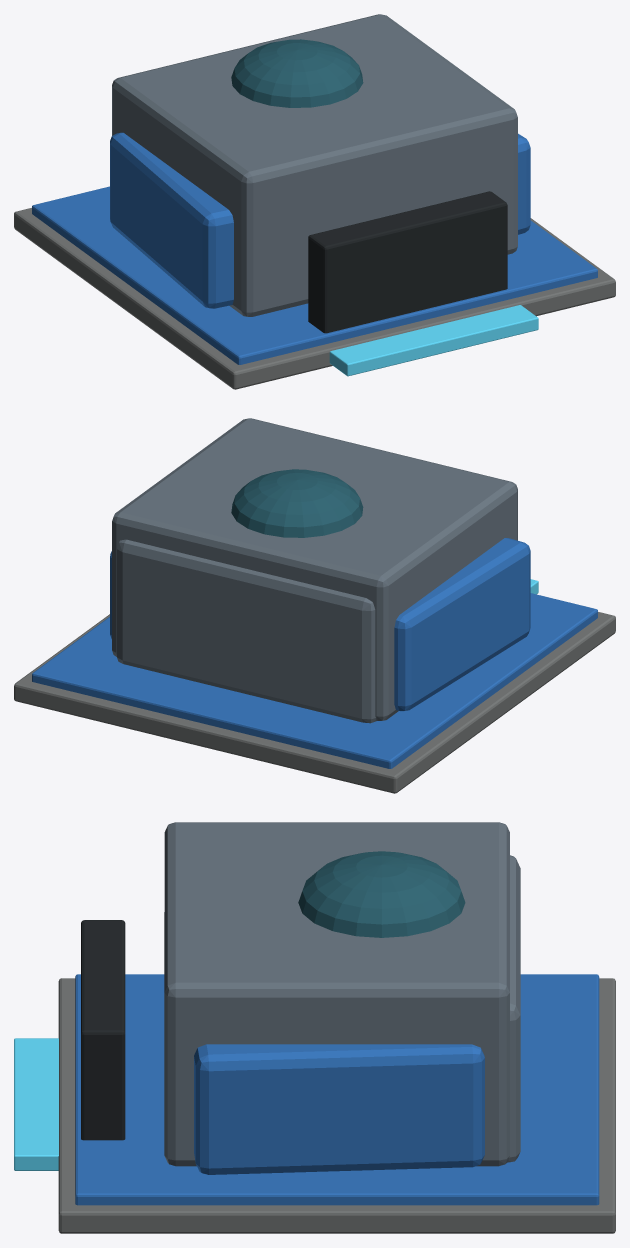
The model's file is SM_Alliance_AL_WarFactory.fbx.
3 renders of one model, top to bottom at view 1: azimuth 30°, elevation 25°; view 2: azimuth 150°, elevation 25°; view 3: azimuth 270°, elevation 25°, orthographic. The views are drawn at different scales.
Parts seen in each view (by area): view 1: SM_Alliance_AL_WarFactory_Hangar, SM_Alliance_AL_WarFactory_AssemblyDoor, SM_Alliance_AL_WarFactory_FoundationTrim, SM_Alliance_AL_WarFactory_Module_-1, SM_Alliance_AL_WarFactory, SM_Alliance_AL_WarFactory_SensorDome, SM_Alliance_AL_WarFactory_ExitRamp, SM_Alliance_AL_WarFactory_Module_+1; view 2: SM_Alliance_AL_WarFactory_Hangar, SM_Alliance_AL_WarFactory_MainMass, SM_Alliance_AL_WarFactory_FoundationTrim, SM_Alliance_AL_WarFactory, SM_Alliance_AL_WarFactory_Module_-1, SM_Alliance_AL_WarFactory_SensorDome; view 3: SM_Alliance_AL_WarFactory_Hangar, SM_Alliance_AL_WarFactory_FoundationTrim, SM_Alliance_AL_WarFactory_Module_+1, SM_Alliance_AL_WarFactory, SM_Alliance_AL_WarFactory_SensorDome, SM_Alliance_AL_WarFactory_AssemblyDoor, SM_Alliance_AL_WarFactory_ExitRamp, SM_Alliance_AL_WarFactory_MainMass.
Part boxes in pixels (x1,y1,x2,y2): SM_Alliance_AL_WarFactory_Hangar: (112, 14, 517, 316); SM_Alliance_AL_WarFactory_AssemblyDoor: (308, 191, 507, 333); SM_Alliance_AL_WarFactory_FoundationTrim: (32, 186, 597, 364); SM_Alliance_AL_WarFactory_Module_-1: (110, 132, 233, 308); SM_Alliance_AL_WarFactory: (14, 208, 615, 389); SM_Alliance_AL_WarFactory_SensorDome: (231, 39, 363, 107); SM_Alliance_AL_WarFactory_ExitRamp: (329, 305, 538, 376); SM_Alliance_AL_WarFactory_Module_+1: (518, 133, 530, 234); SM_Alliance_AL_WarFactory_Hangar: (112, 418, 517, 720); SM_Alliance_AL_WarFactory_MainMass: (117, 539, 376, 723); SM_Alliance_AL_WarFactory_FoundationTrim: (32, 593, 597, 768); SM_Alliance_AL_WarFactory: (14, 612, 615, 793); SM_Alliance_AL_WarFactory_Module_-1: (394, 538, 530, 711); SM_Alliance_AL_WarFactory_SensorDome: (231, 469, 363, 537); SM_Alliance_AL_WarFactory_Hangar: (164, 822, 509, 1166); SM_Alliance_AL_WarFactory_FoundationTrim: (75, 974, 599, 1205); SM_Alliance_AL_WarFactory_Module_+1: (194, 1044, 484, 1174); SM_Alliance_AL_WarFactory: (58, 978, 615, 1233); SM_Alliance_AL_WarFactory_SensorDome: (298, 851, 465, 937); SM_Alliance_AL_WarFactory_AssemblyDoor: (81, 920, 125, 1140); SM_Alliance_AL_WarFactory_ExitRamp: (14, 1038, 58, 1170); SM_Alliance_AL_WarFactory_MainMass: (507, 855, 520, 1162).
Size of what is drawn, in the model's own units: 800 by 864 by 400.
